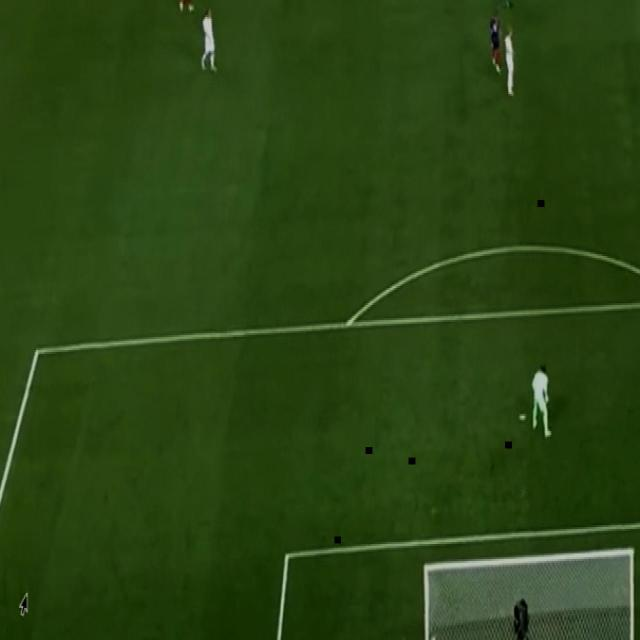player-white: (530, 359, 554, 441), (200, 6, 219, 75), (503, 21, 517, 99), (488, 5, 502, 76), (178, 0, 196, 15), (496, 0, 514, 10)
